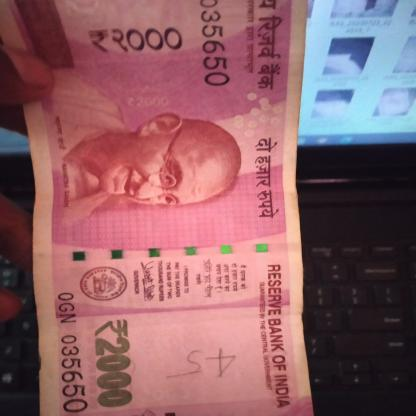New2000Front: (36, 0, 297, 415)
